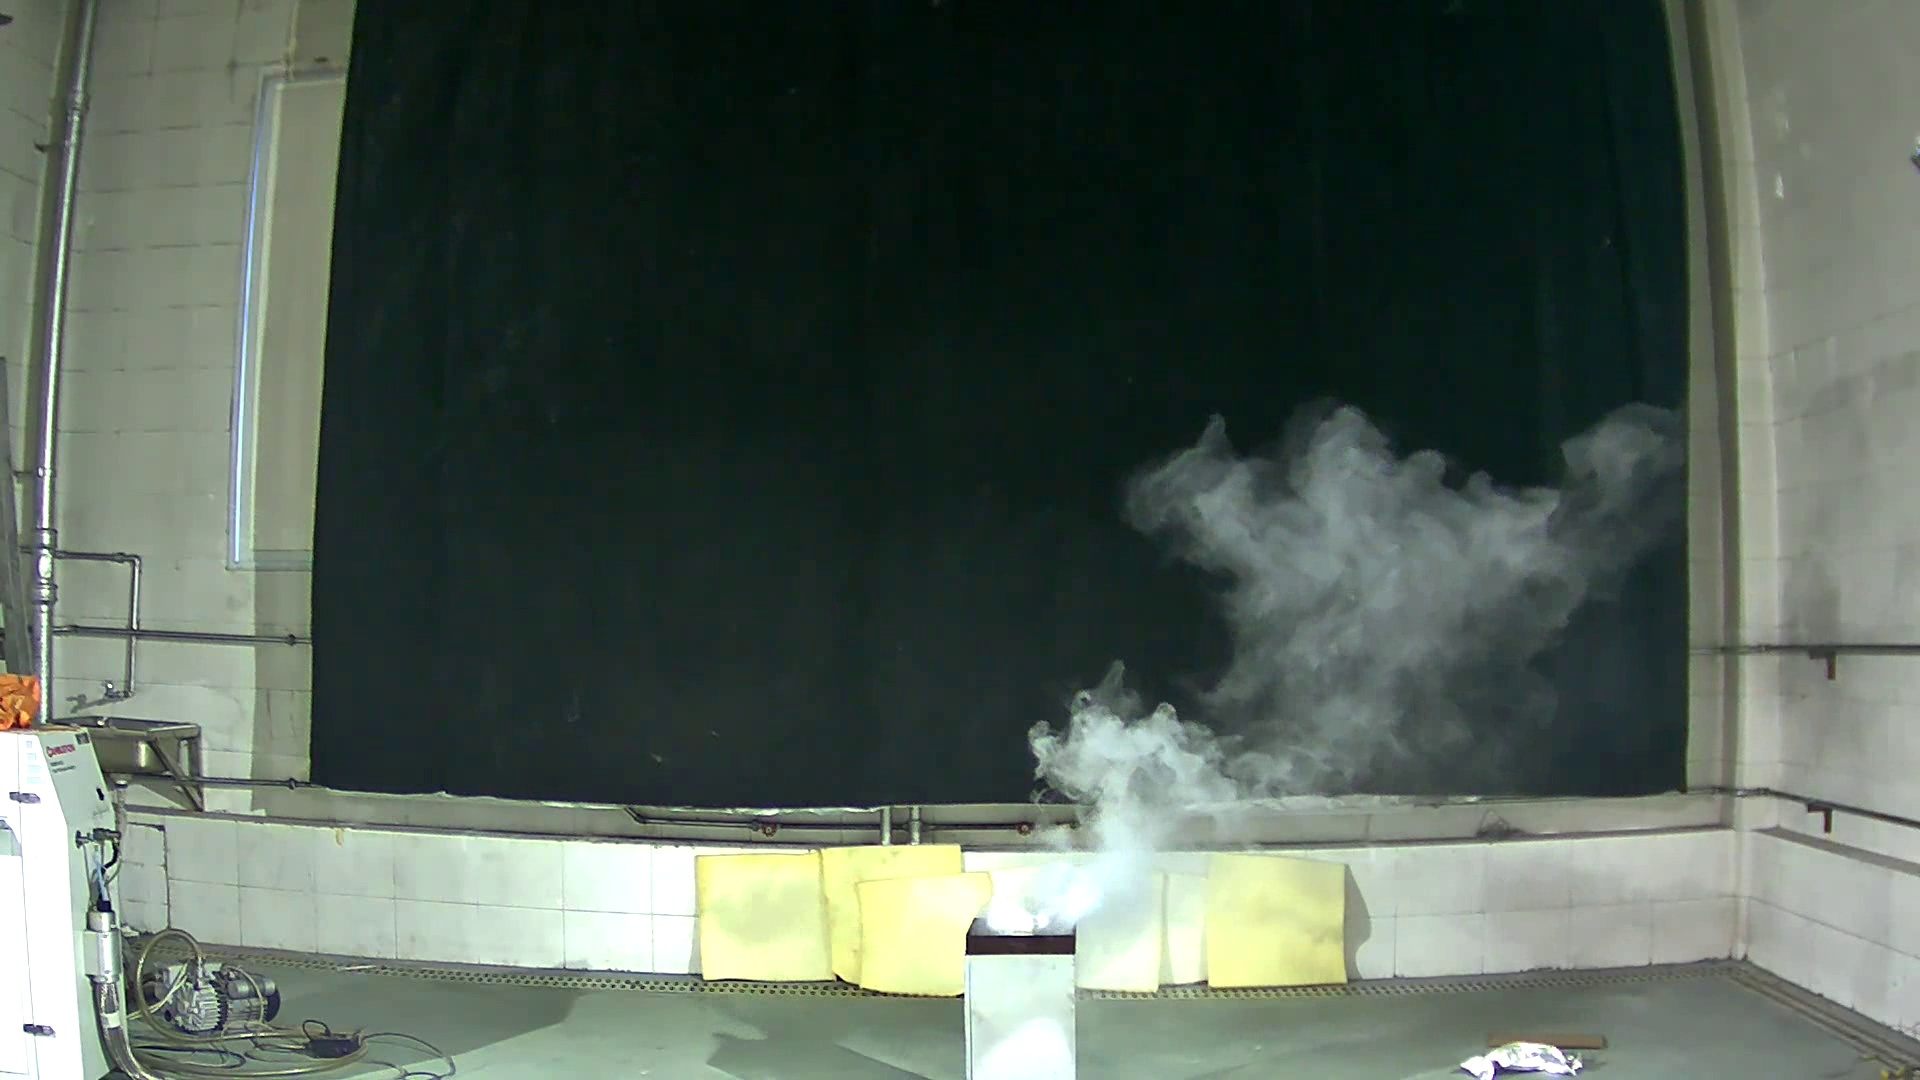smoke: (1004, 382, 1681, 938)
